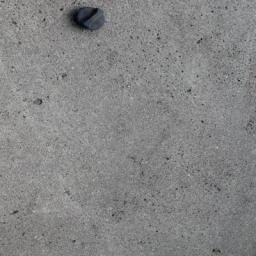FOD: (72, 6, 110, 33)
